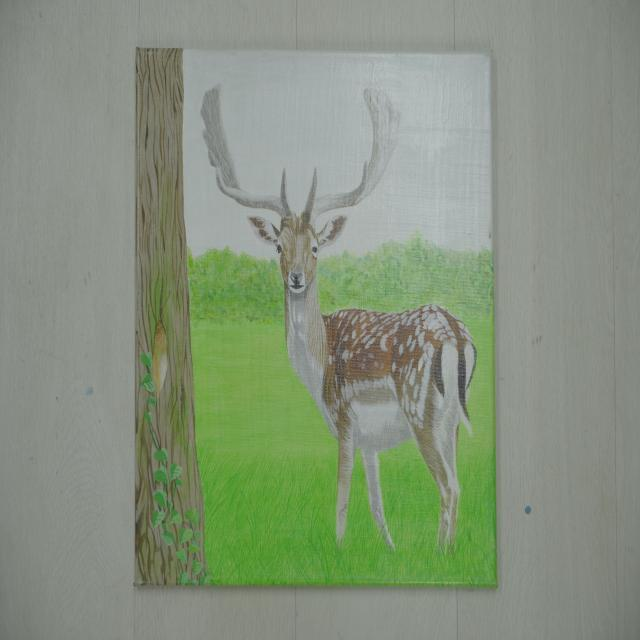painting: (136, 49, 496, 586)
